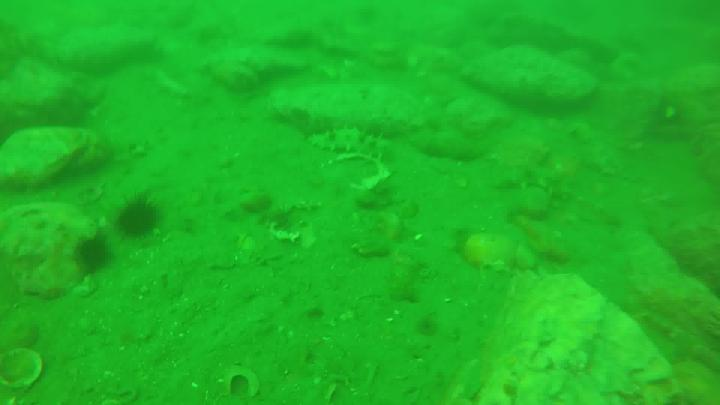echinus: (118, 198, 164, 238), (79, 236, 116, 274)
holothurian: (306, 127, 395, 160)
scallop: (326, 151, 397, 195), (1, 346, 45, 394), (212, 368, 262, 405)
